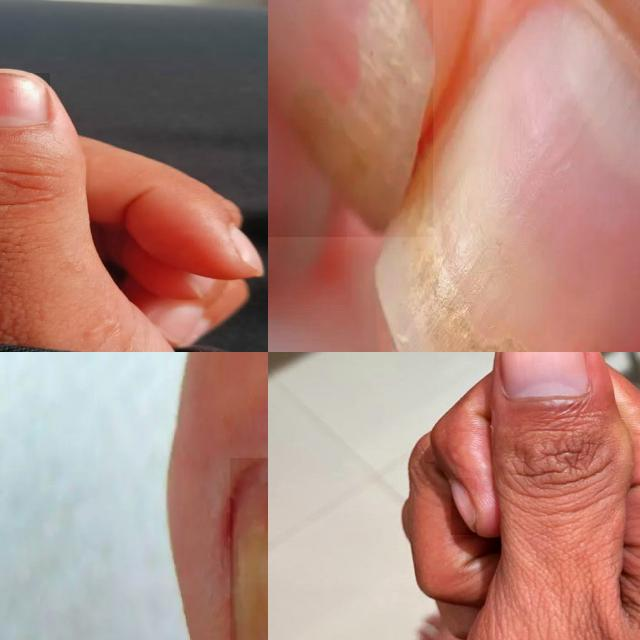diabetes: (374, 0, 640, 352), (268, 0, 433, 237)
sehat: (500, 352, 590, 399), (0, 74, 50, 128), (452, 478, 477, 535)
